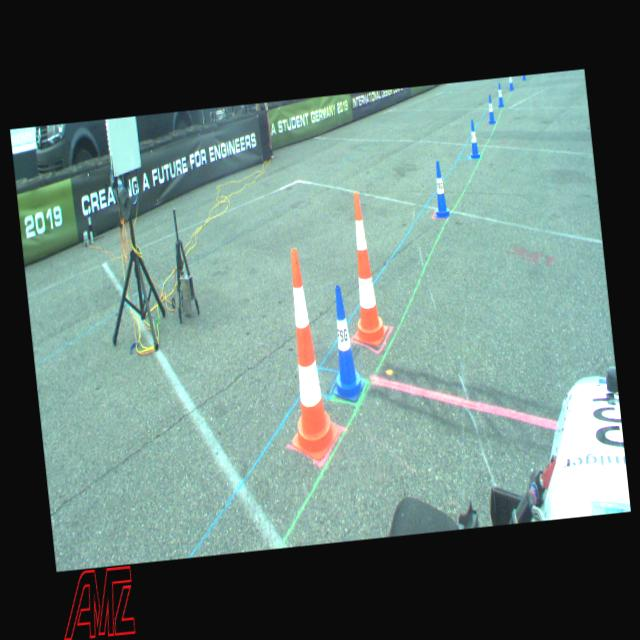blue_cone: (322, 283, 366, 403), (430, 160, 450, 218), (466, 118, 480, 158), (486, 94, 496, 124), (496, 83, 504, 106), (508, 77, 514, 90)
large_orange_cone: (272, 246, 341, 463), (339, 190, 389, 348)
